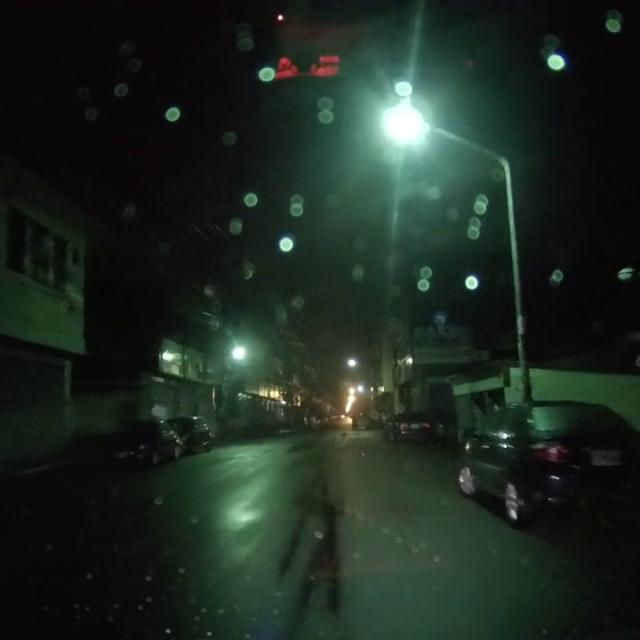Car: (455, 399, 639, 527), (101, 416, 182, 464), (169, 410, 212, 453), (383, 413, 428, 443)
